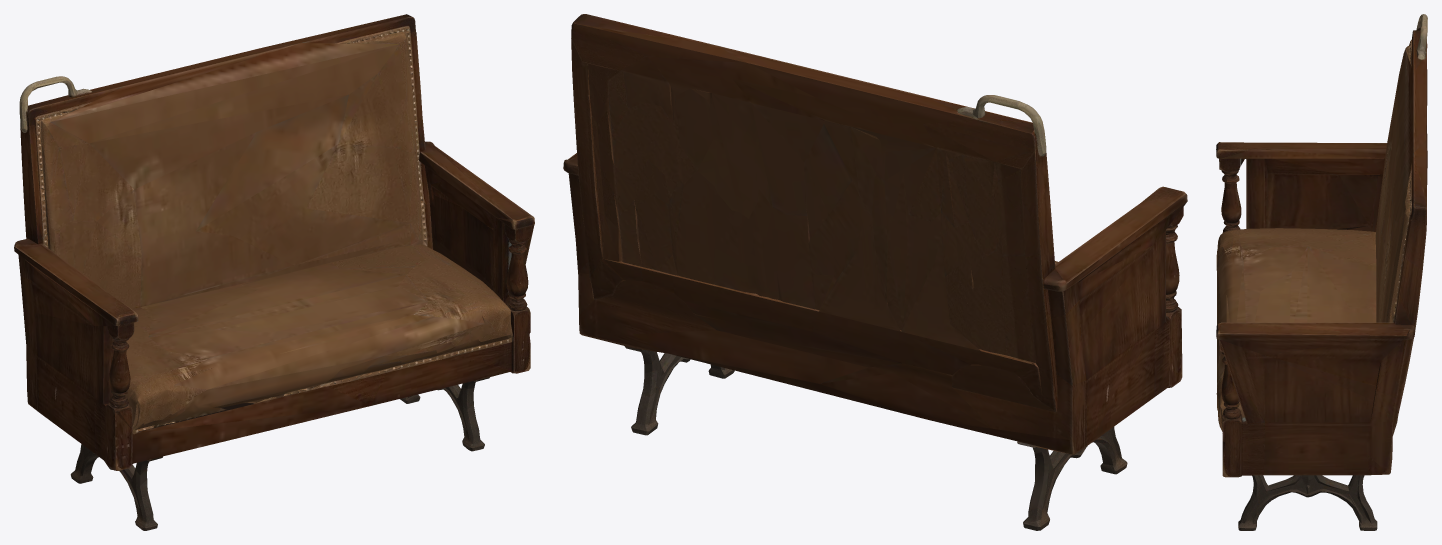
The model's file is bench.glb.
The picture shows the model from 3 angles, left to right: view 1: azimuth 30°, elevation 25°; view 2: azimuth 150°, elevation 25°; view 3: azimuth 270°, elevation 25°; orthographic projection. The views are drawn at different scales.
Parts seen in each view (by area): view 1: Mesh_0; view 2: Mesh_0; view 3: Mesh_0.
Boxes of the visible parts, bbox=[...] form: Mesh_0: bbox=[14, 14, 534, 530]; Mesh_0: bbox=[563, 14, 1187, 530]; Mesh_0: bbox=[1216, 14, 1427, 530].
Bounding box in the file's own units: 1.9 × 1.64 × 0.8866.
Materials: 1 (1 with a texture image).
